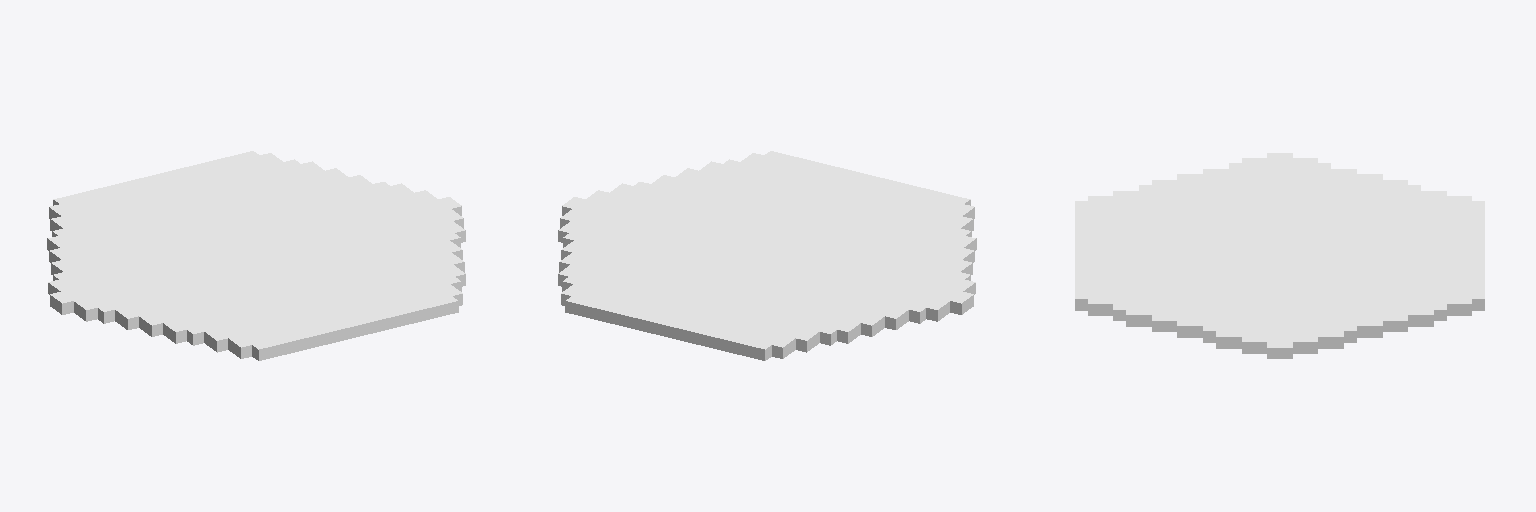
Rendered from hexagon_regular.obj.
3 renders of one model, left to right at view 1: azimuth 30°, elevation 25°; view 2: azimuth 150°, elevation 25°; view 3: azimuth 270°, elevation 25°, orthographic.
Parts seen in each view (by area): view 1: object 1; view 2: object 1; view 3: object 1.
Part boxes in pixels (left/top/right/bottom): object 1: left=47, top=151, right=465, bottom=360; object 1: left=558, top=151, right=976, bottom=360; object 1: left=1075, top=153, right=1484, bottom=358.
Size of the model in its own units: 3.6 by 0.1 by 3.2.